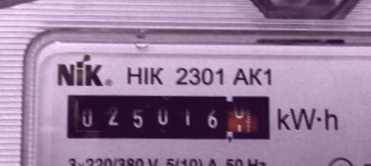0: (156, 103, 170, 127), (80, 106, 93, 129), (232, 99, 244, 120)
1: (181, 103, 192, 128), (234, 122, 242, 134)
2: (106, 104, 119, 127)
5: (131, 107, 142, 128)
6: (205, 106, 218, 131)
screen: (56, 84, 279, 148)
